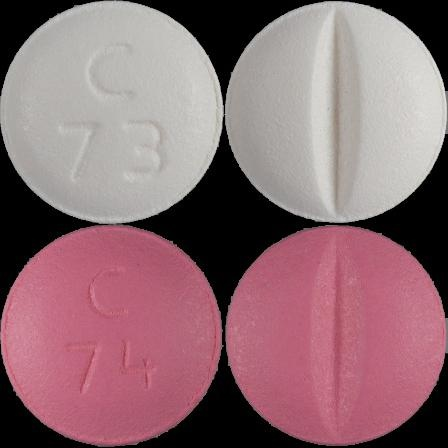65862-062: (0, 0, 224, 224)
